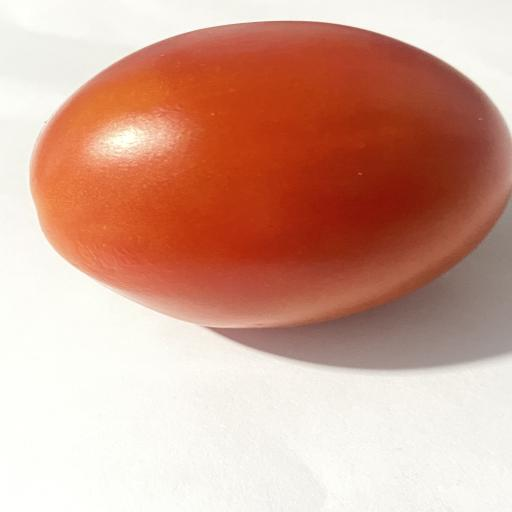ripe: (30, 21, 512, 328)
